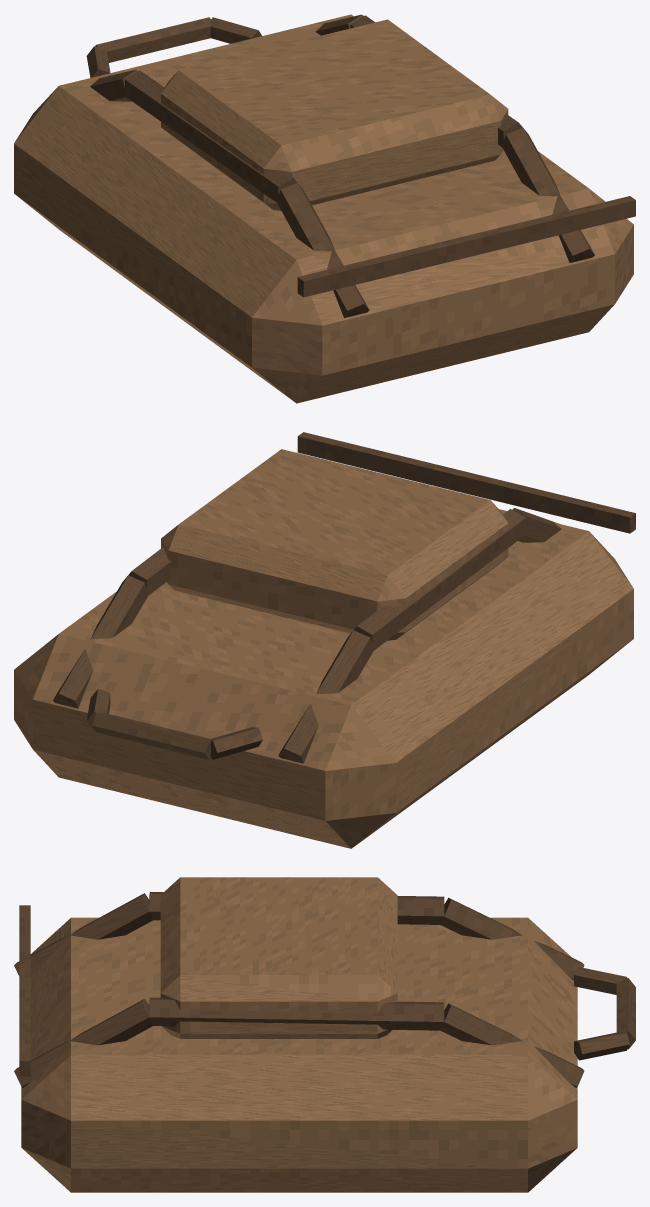
Rendered from backpack_hiking.glb.
3 views of the same model, one above another, from view 1: azimuth 30°, elevation 25°; view 2: azimuth 150°, elevation 25°; view 3: azimuth 270°, elevation 25° (orthographic). The views are drawn at different scales.
Visible parts, largest first — view 1: block_bag shell, block_front pocket, block_zipper, block_webbing strap 2 (×2), block_webbing strap 1 (×2), block_carry handle 1, block_carry handle 2, block_webbing strap 0, block_carry handle 0; view 2: block_bag shell, block_front pocket, block_zipper, block_webbing strap 0 (×2), block_webbing strap 1 (×2), block_carry handle 1, block_carry handle 0, block_webbing strap 2; view 3: block_bag shell, block_front pocket, block_webbing strap 1 (×2), block_webbing strap 2 (×2), block_webbing strap 0 (×2), block_zipper, block_carry handle 1, block_carry handle 2, block_carry handle 0.
Part boxes in pixels (x1,y1,x2,y2): block_bag shell: [14, 14, 633, 403]; block_front pocket: [161, 19, 508, 210]; block_zipper: [297, 196, 635, 297]; block_webbing strap 2 (×2): [276, 127, 594, 317]; block_webbing strap 1 (×2): [124, 15, 523, 203]; block_carry handle 1: [95, 17, 210, 62]; block_carry handle 2: [210, 17, 261, 43]; block_webbing strap 0: [90, 69, 138, 101]; block_carry handle 0: [86, 46, 110, 77]; block_bag shell: [14, 509, 633, 848]; block_front pocket: [161, 449, 508, 640]; block_zipper: [297, 432, 635, 533]; block_webbing strap 0 (×2): [53, 575, 374, 763]; block_webbing strap 1 (×2): [128, 509, 525, 650]; block_carry handle 1: [92, 713, 210, 759]; block_carry handle 0: [211, 727, 262, 759]; block_webbing strap 2: [512, 508, 561, 542]; block_bag shell: [21, 917, 577, 1192]; block_front pocket: [160, 877, 397, 1038]; block_webbing strap 1 (×2): [149, 892, 444, 1030]; block_webbing strap 2 (×2): [14, 893, 152, 1087]; block_webbing strap 0 (×2): [440, 897, 584, 1087]; block_zipper: [19, 905, 30, 1076]; block_carry handle 1: [616, 978, 635, 1049]; block_carry handle 2: [574, 1032, 629, 1060]; block_carry handle 0: [574, 967, 627, 994].
Size of the model in its own units: 0.3338 by 0.1721 by 0.4899.
Materials: 1 (1 with a texture image).
